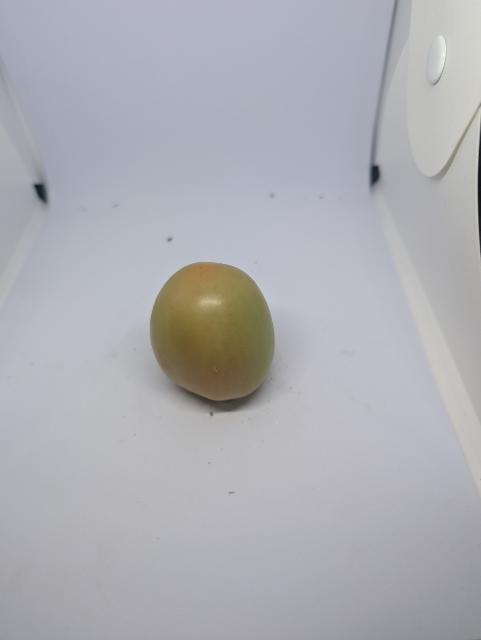breaker: (146, 257, 280, 406)
